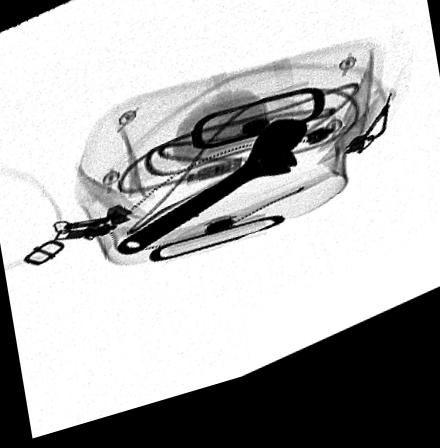Wrench: (118, 135, 311, 263)
